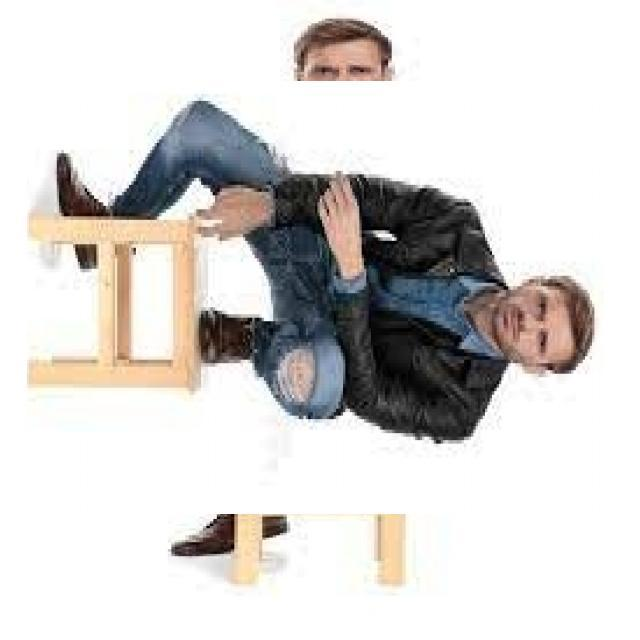NotFall: (40, 103, 638, 515)
